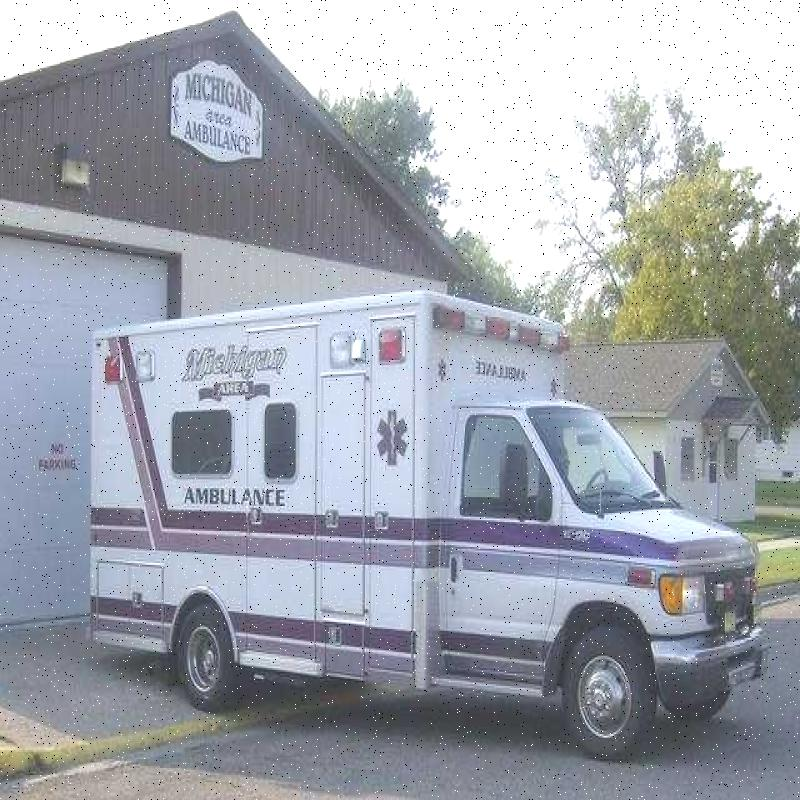AmbulanceSiren: (426, 278, 576, 376)
